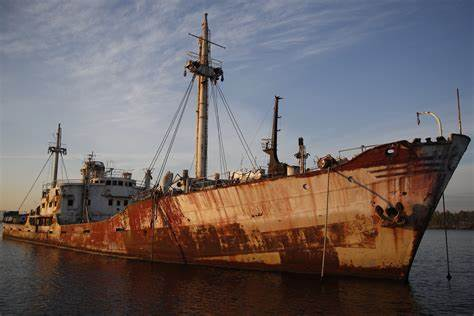rust: (129, 206, 186, 261), (62, 226, 108, 250), (203, 229, 248, 252), (372, 148, 413, 164)
